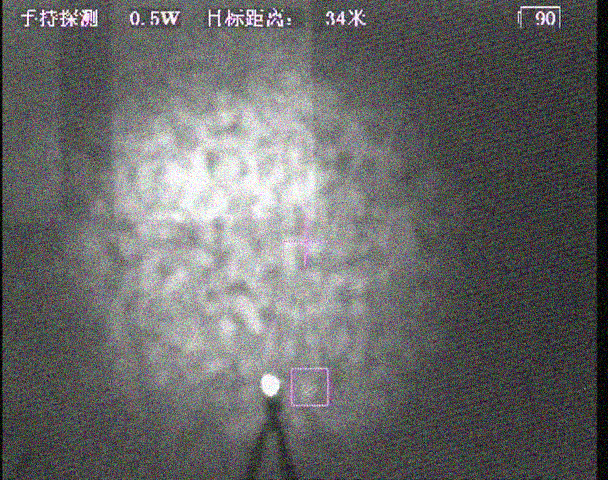my: (259, 373, 284, 398)
